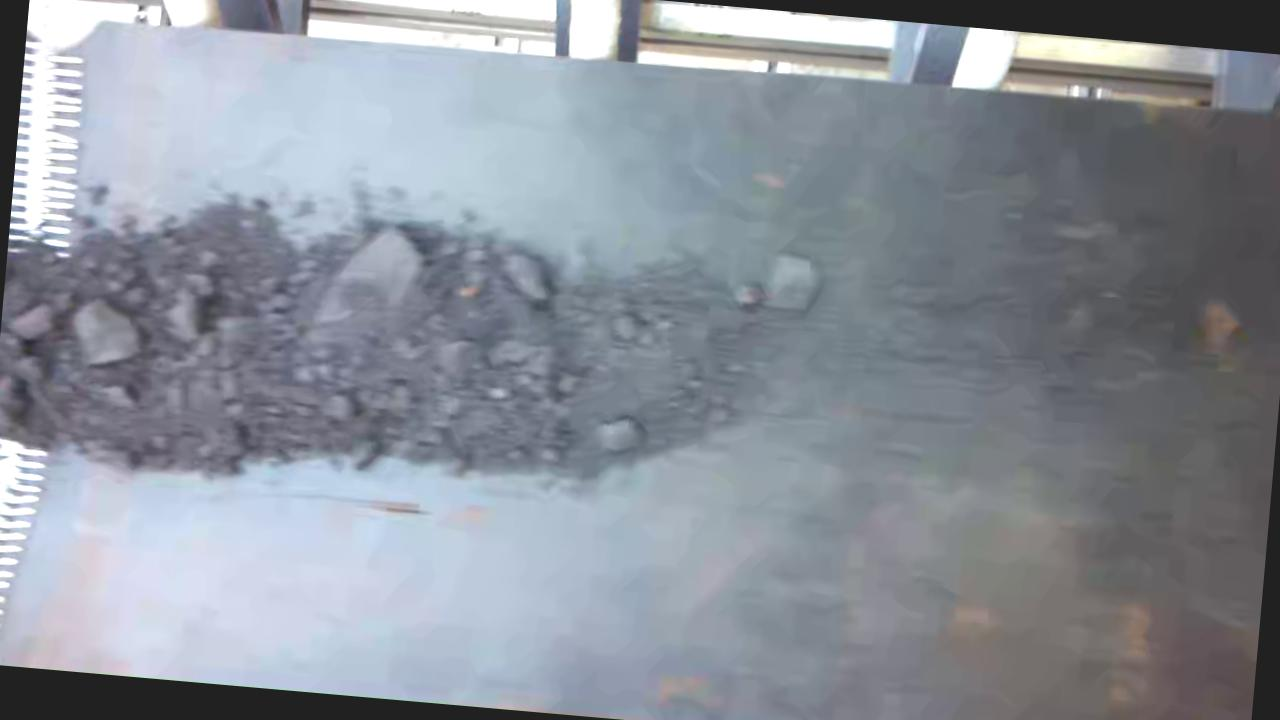conveyor: (0, 23, 1280, 720)
